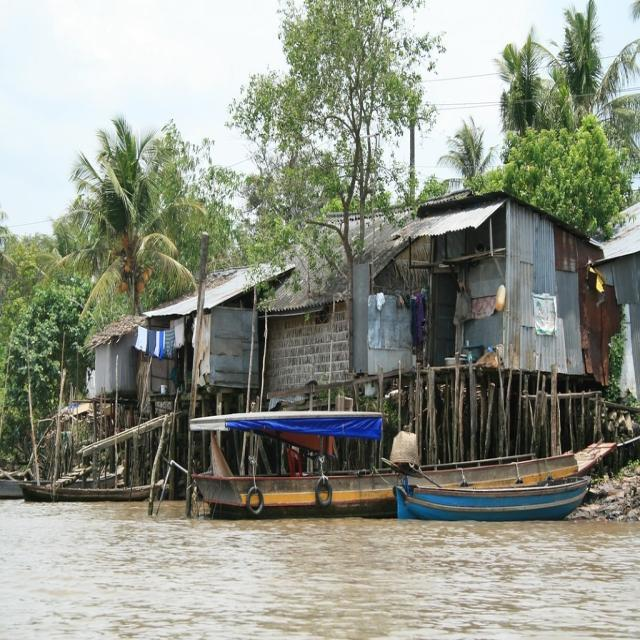boat: (181, 413, 597, 522), (382, 468, 596, 532)
